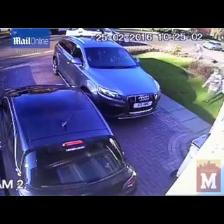person: (203, 68, 221, 102), (196, 44, 202, 60)
